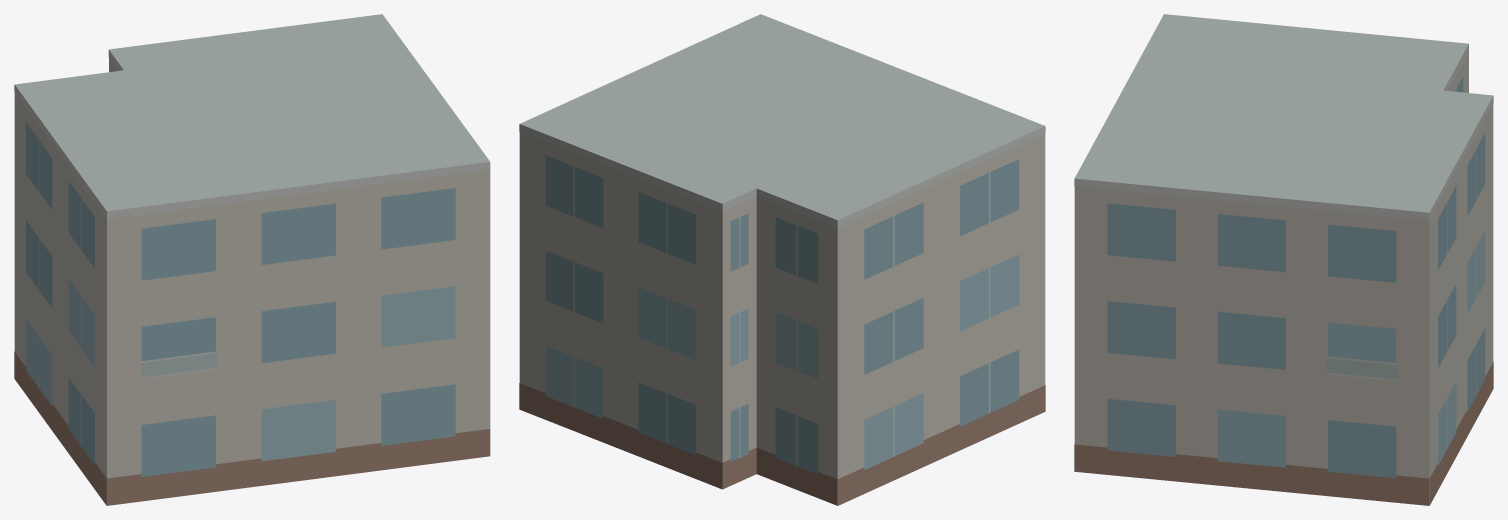
File: survey-upis-33042125.glb
The picture shows the model from 3 angles, left to right: view 1: azimuth 30°, elevation 25°; view 2: azimuth 150°, elevation 25°; view 3: azimuth 270°, elevation 25°; orthographic projection. The views are drawn at different scales.
Parts seen in each view (by area): view 1: survey-upis-33042125.tmp; view 2: survey-upis-33042125.tmp; view 3: survey-upis-33042125.tmp.
Boxes of the visible parts, left/top/right/bottom form: survey-upis-33042125.tmp: left=14, top=14, right=490, bottom=505; survey-upis-33042125.tmp: left=519, top=14, right=1045, bottom=505; survey-upis-33042125.tmp: left=1074, top=14, right=1493, bottom=505.
Size of the model in its own units: 13.31 by 9.15 by 11.86.
